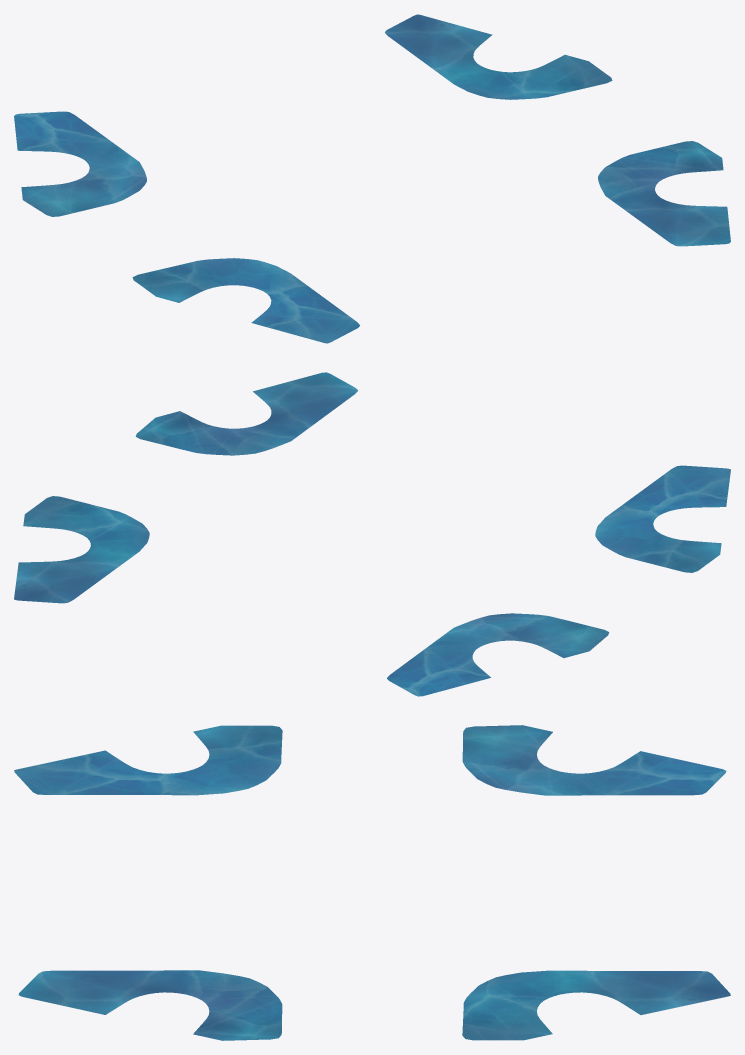
File: pref_sm_beach_ice_lv3.fbx
3 views of the same model, one above another, from view 1: azimuth 30°, elevation 25°; view 2: azimuth 150°, elevation 25°; view 3: azimuth 270°, elevation 25° (orthographic). The views are drawn at different scales.
Parts seen in each view (by area): view 1: pref_sm_beach_ice_lv3; view 2: pref_sm_beach_ice_lv3; view 3: pref_sm_beach_ice_lv3.
Boxes of the visible parts, bbox=[...] form: pref_sm_beach_ice_lv3: bbox=[14, 14, 730, 343]; pref_sm_beach_ice_lv3: bbox=[14, 372, 730, 696]; pref_sm_beach_ice_lv3: bbox=[14, 725, 730, 1040].
Bounding box in the file's own units: 38.18 × 1.81e-05 × 36.64.
